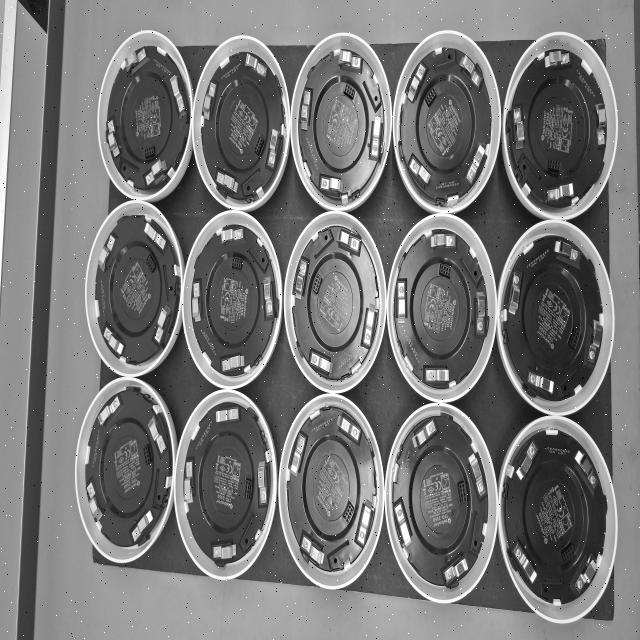yayli: (513, 541, 540, 588), (573, 448, 599, 489), (408, 419, 438, 454), (408, 156, 434, 195), (514, 440, 538, 482), (467, 445, 486, 498), (551, 237, 583, 268), (394, 500, 412, 554), (405, 64, 427, 108), (575, 552, 598, 594), (586, 317, 605, 367), (300, 534, 328, 567), (357, 493, 374, 547), (444, 551, 471, 585), (466, 140, 486, 185), (528, 370, 556, 402), (148, 408, 167, 454), (167, 71, 187, 114), (97, 394, 122, 428), (458, 52, 483, 86), (334, 412, 361, 443), (86, 482, 105, 526), (289, 433, 306, 480), (334, 46, 362, 74), (334, 226, 360, 256), (132, 508, 154, 543), (142, 218, 166, 250), (201, 79, 217, 126), (369, 112, 384, 162), (154, 303, 172, 344), (363, 299, 378, 348), (310, 351, 336, 379), (146, 158, 170, 188), (293, 258, 308, 306), (508, 270, 523, 318), (103, 326, 126, 357), (423, 363, 454, 386), (255, 456, 269, 506), (319, 175, 347, 199), (98, 234, 115, 273), (473, 286, 486, 336), (124, 46, 147, 74), (267, 124, 281, 170), (547, 182, 576, 204), (300, 88, 313, 137), (260, 273, 274, 318), (243, 52, 267, 78), (216, 171, 240, 197), (594, 97, 606, 149), (543, 50, 571, 72), (513, 106, 526, 153), (213, 539, 238, 561), (108, 119, 121, 161), (214, 405, 240, 426), (221, 352, 248, 372), (184, 460, 195, 508), (397, 280, 408, 328), (219, 228, 244, 249), (192, 282, 202, 326), (429, 233, 458, 248)
